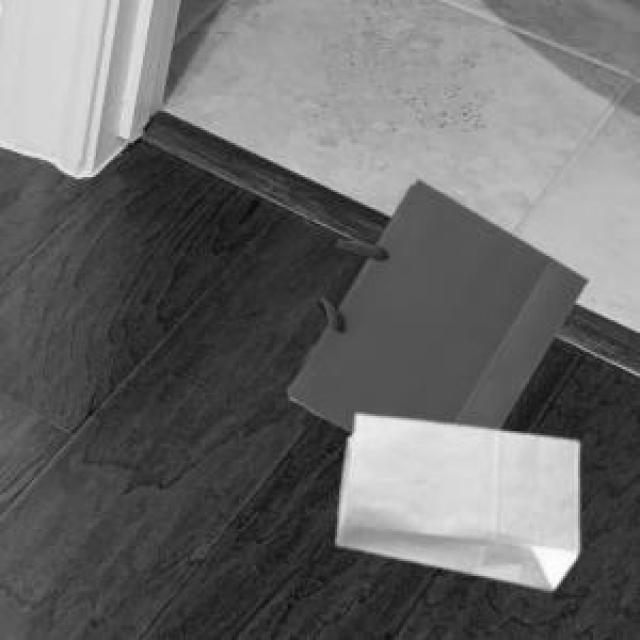paper: (284, 177, 585, 429), (333, 411, 574, 587)
